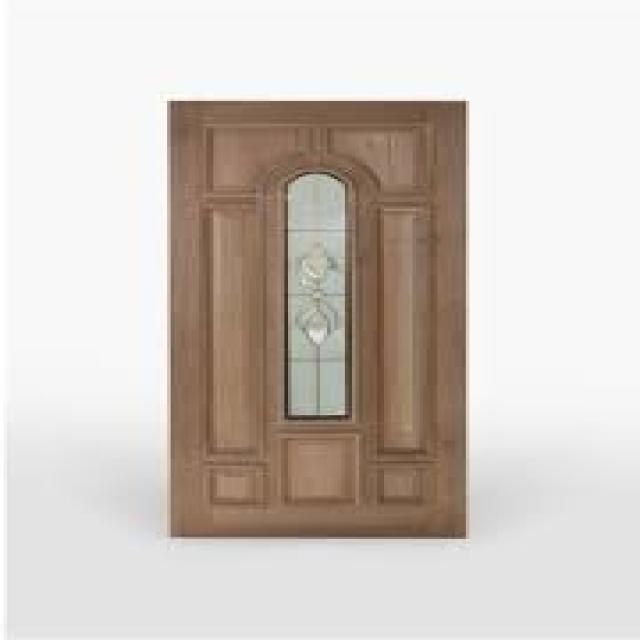door: (167, 99, 469, 539)
